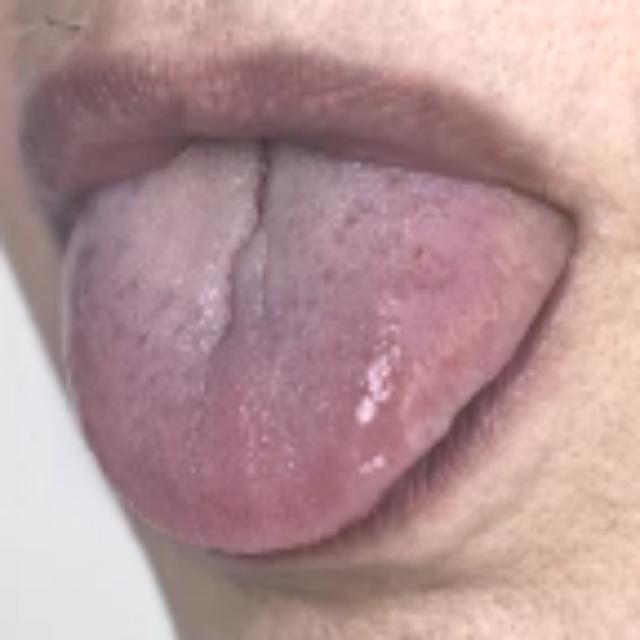processing_area: (59, 129, 583, 549)
